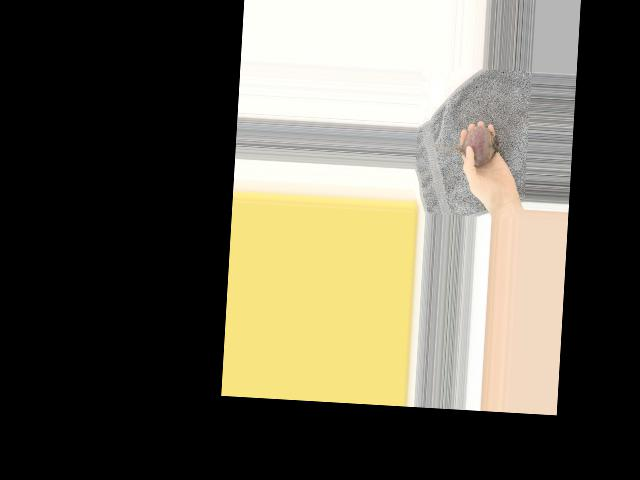beet: (431, 122, 500, 167)
